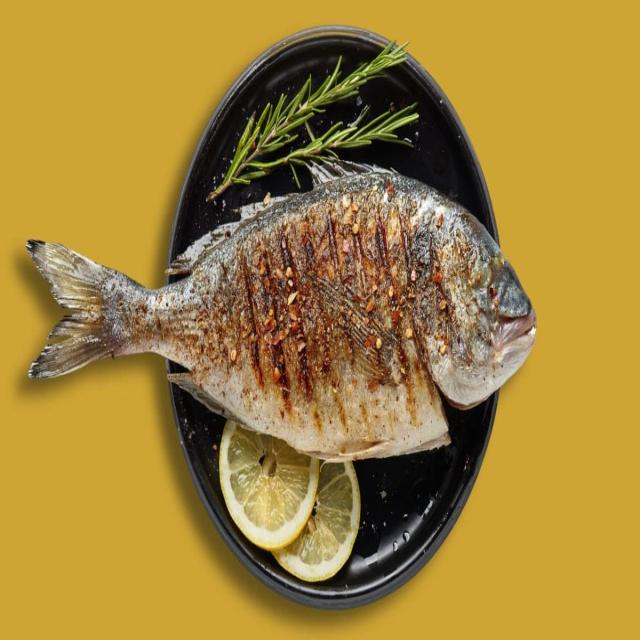pescado: (14, 179, 564, 473)
